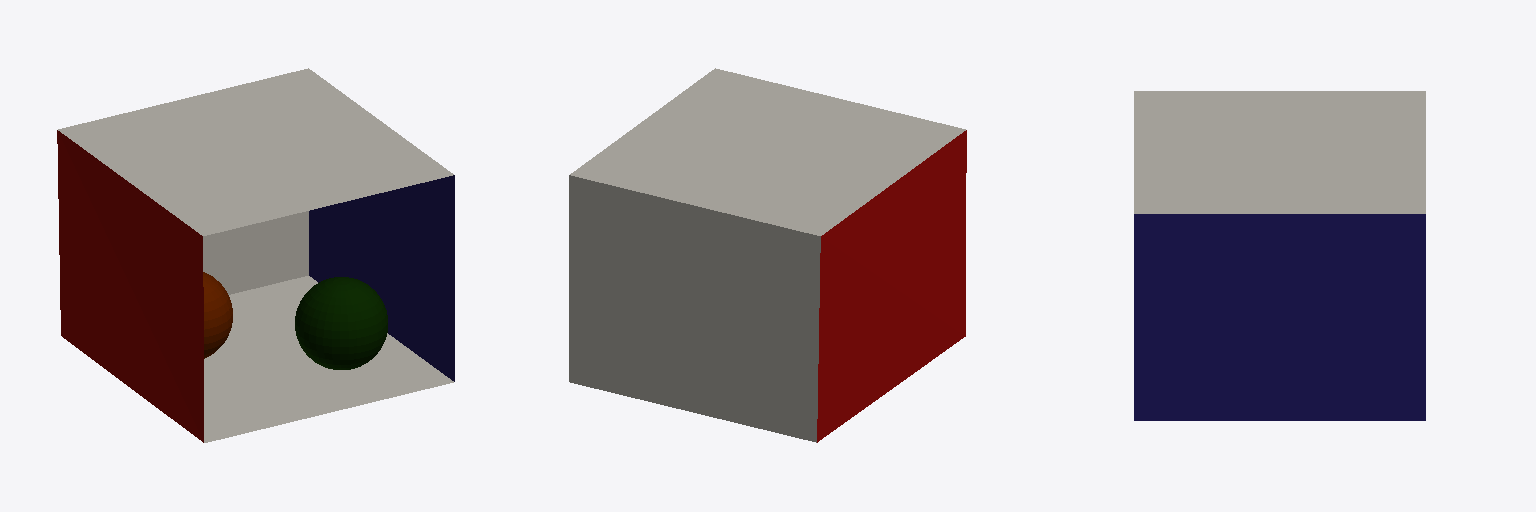
File: CornellBox-Noxoscope.obj
3 renders of one model, left to right at view 1: azimuth 30°, elevation 25°; view 2: azimuth 150°, elevation 25°; view 3: azimuth 270°, elevation 25°, orthographic.
Parts seen in each view (by area): view 1: ceiling.002, leftWall, floor, rightWall, leftWall.001, ceiling.001, rightSphere, rightWall.001, backWall.001, leftSphere, backWall; view 2: backWall.001, ceiling.002, leftWall, ceiling.001, backWall, leftWall.001; view 3: rightWall, ceiling.002, ceiling.001, rightWall.001.
Part boxes in pixels (x1,y1,x2,y2): ceiling.002: (58, 68, 452, 235); leftWall: (57, 131, 203, 442); floor: (204, 276, 453, 442); rightWall: (309, 175, 454, 381); leftWall.001: (57, 130, 203, 441); ceiling.001: (58, 70, 453, 234); rightSphere: (295, 277, 387, 369); rightWall.001: (309, 176, 454, 380); backWall.001: (203, 211, 308, 294); leftSphere: (203, 272, 232, 358); backWall: (203, 211, 308, 294); backWall.001: (569, 175, 820, 441); ceiling.002: (570, 68, 965, 235); leftWall: (817, 132, 966, 442); ceiling.001: (572, 69, 965, 233); backWall: (569, 175, 820, 442); leftWall.001: (817, 130, 966, 441); rightWall: (1134, 214, 1425, 420); ceiling.002: (1134, 91, 1425, 213); ceiling.001: (1134, 91, 1425, 213); rightWall.001: (1134, 214, 1425, 420).
Size of the model in its own units: 2.02 by 1.59 by 2.03.